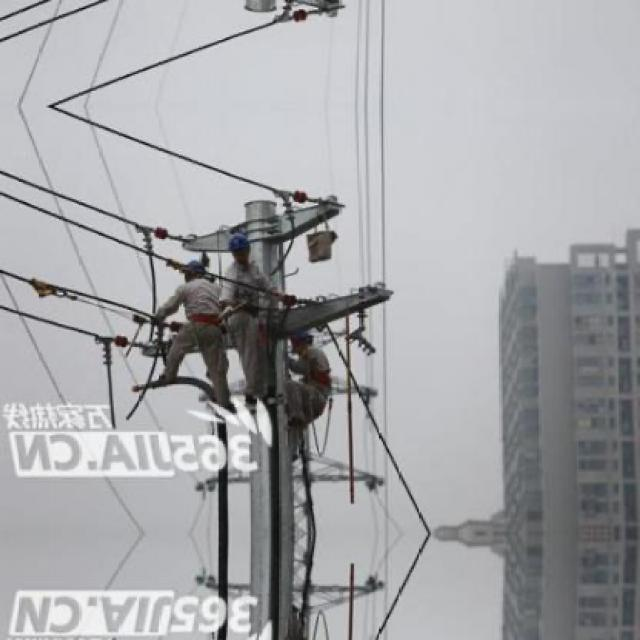helmet: (224, 230, 253, 264), (286, 326, 316, 356), (179, 254, 206, 284)
